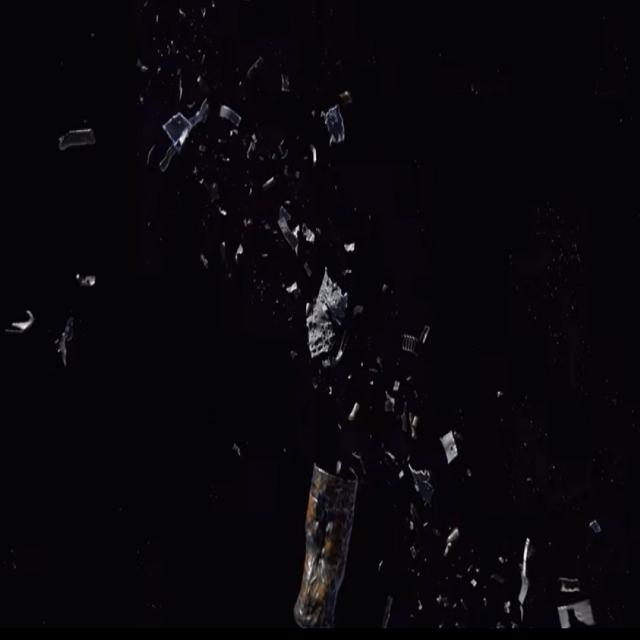large_debris: (293, 454, 357, 636), (301, 264, 349, 372), (146, 95, 212, 173), (274, 201, 325, 261), (54, 116, 109, 159), (234, 58, 273, 106), (554, 601, 602, 633), (517, 537, 535, 621), (319, 103, 352, 147), (439, 428, 471, 472), (54, 316, 82, 366), (400, 323, 434, 361), (408, 462, 436, 505), (71, 266, 111, 296), (153, 41, 181, 75), (8, 304, 34, 340), (555, 570, 585, 595), (243, 131, 261, 167), (218, 102, 243, 126), (442, 526, 460, 556), (383, 594, 401, 620), (585, 512, 604, 536), (272, 139, 292, 159), (176, 77, 190, 103), (351, 298, 367, 318), (235, 242, 250, 262), (220, 207, 237, 224), (310, 144, 323, 166), (285, 276, 299, 296), (348, 400, 364, 416), (241, 211, 255, 229), (339, 242, 359, 254), (262, 175, 276, 192), (137, 53, 150, 71), (380, 282, 394, 298), (200, 251, 212, 269), (136, 88, 148, 102), (386, 450, 397, 462), (178, 7, 188, 17), (204, 8, 210, 18), (155, 13, 161, 21)
